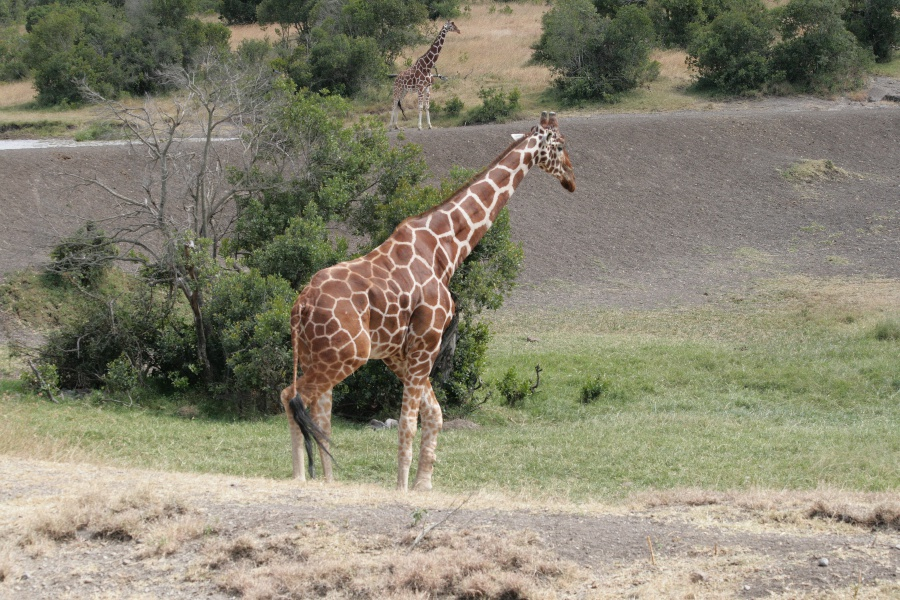giraffe: (271, 103, 584, 490), (387, 12, 468, 131)
